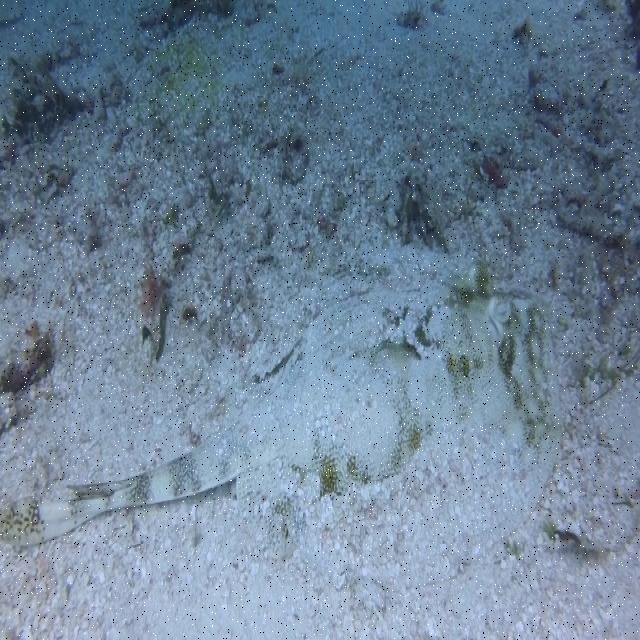fish: (0, 261, 561, 602)
